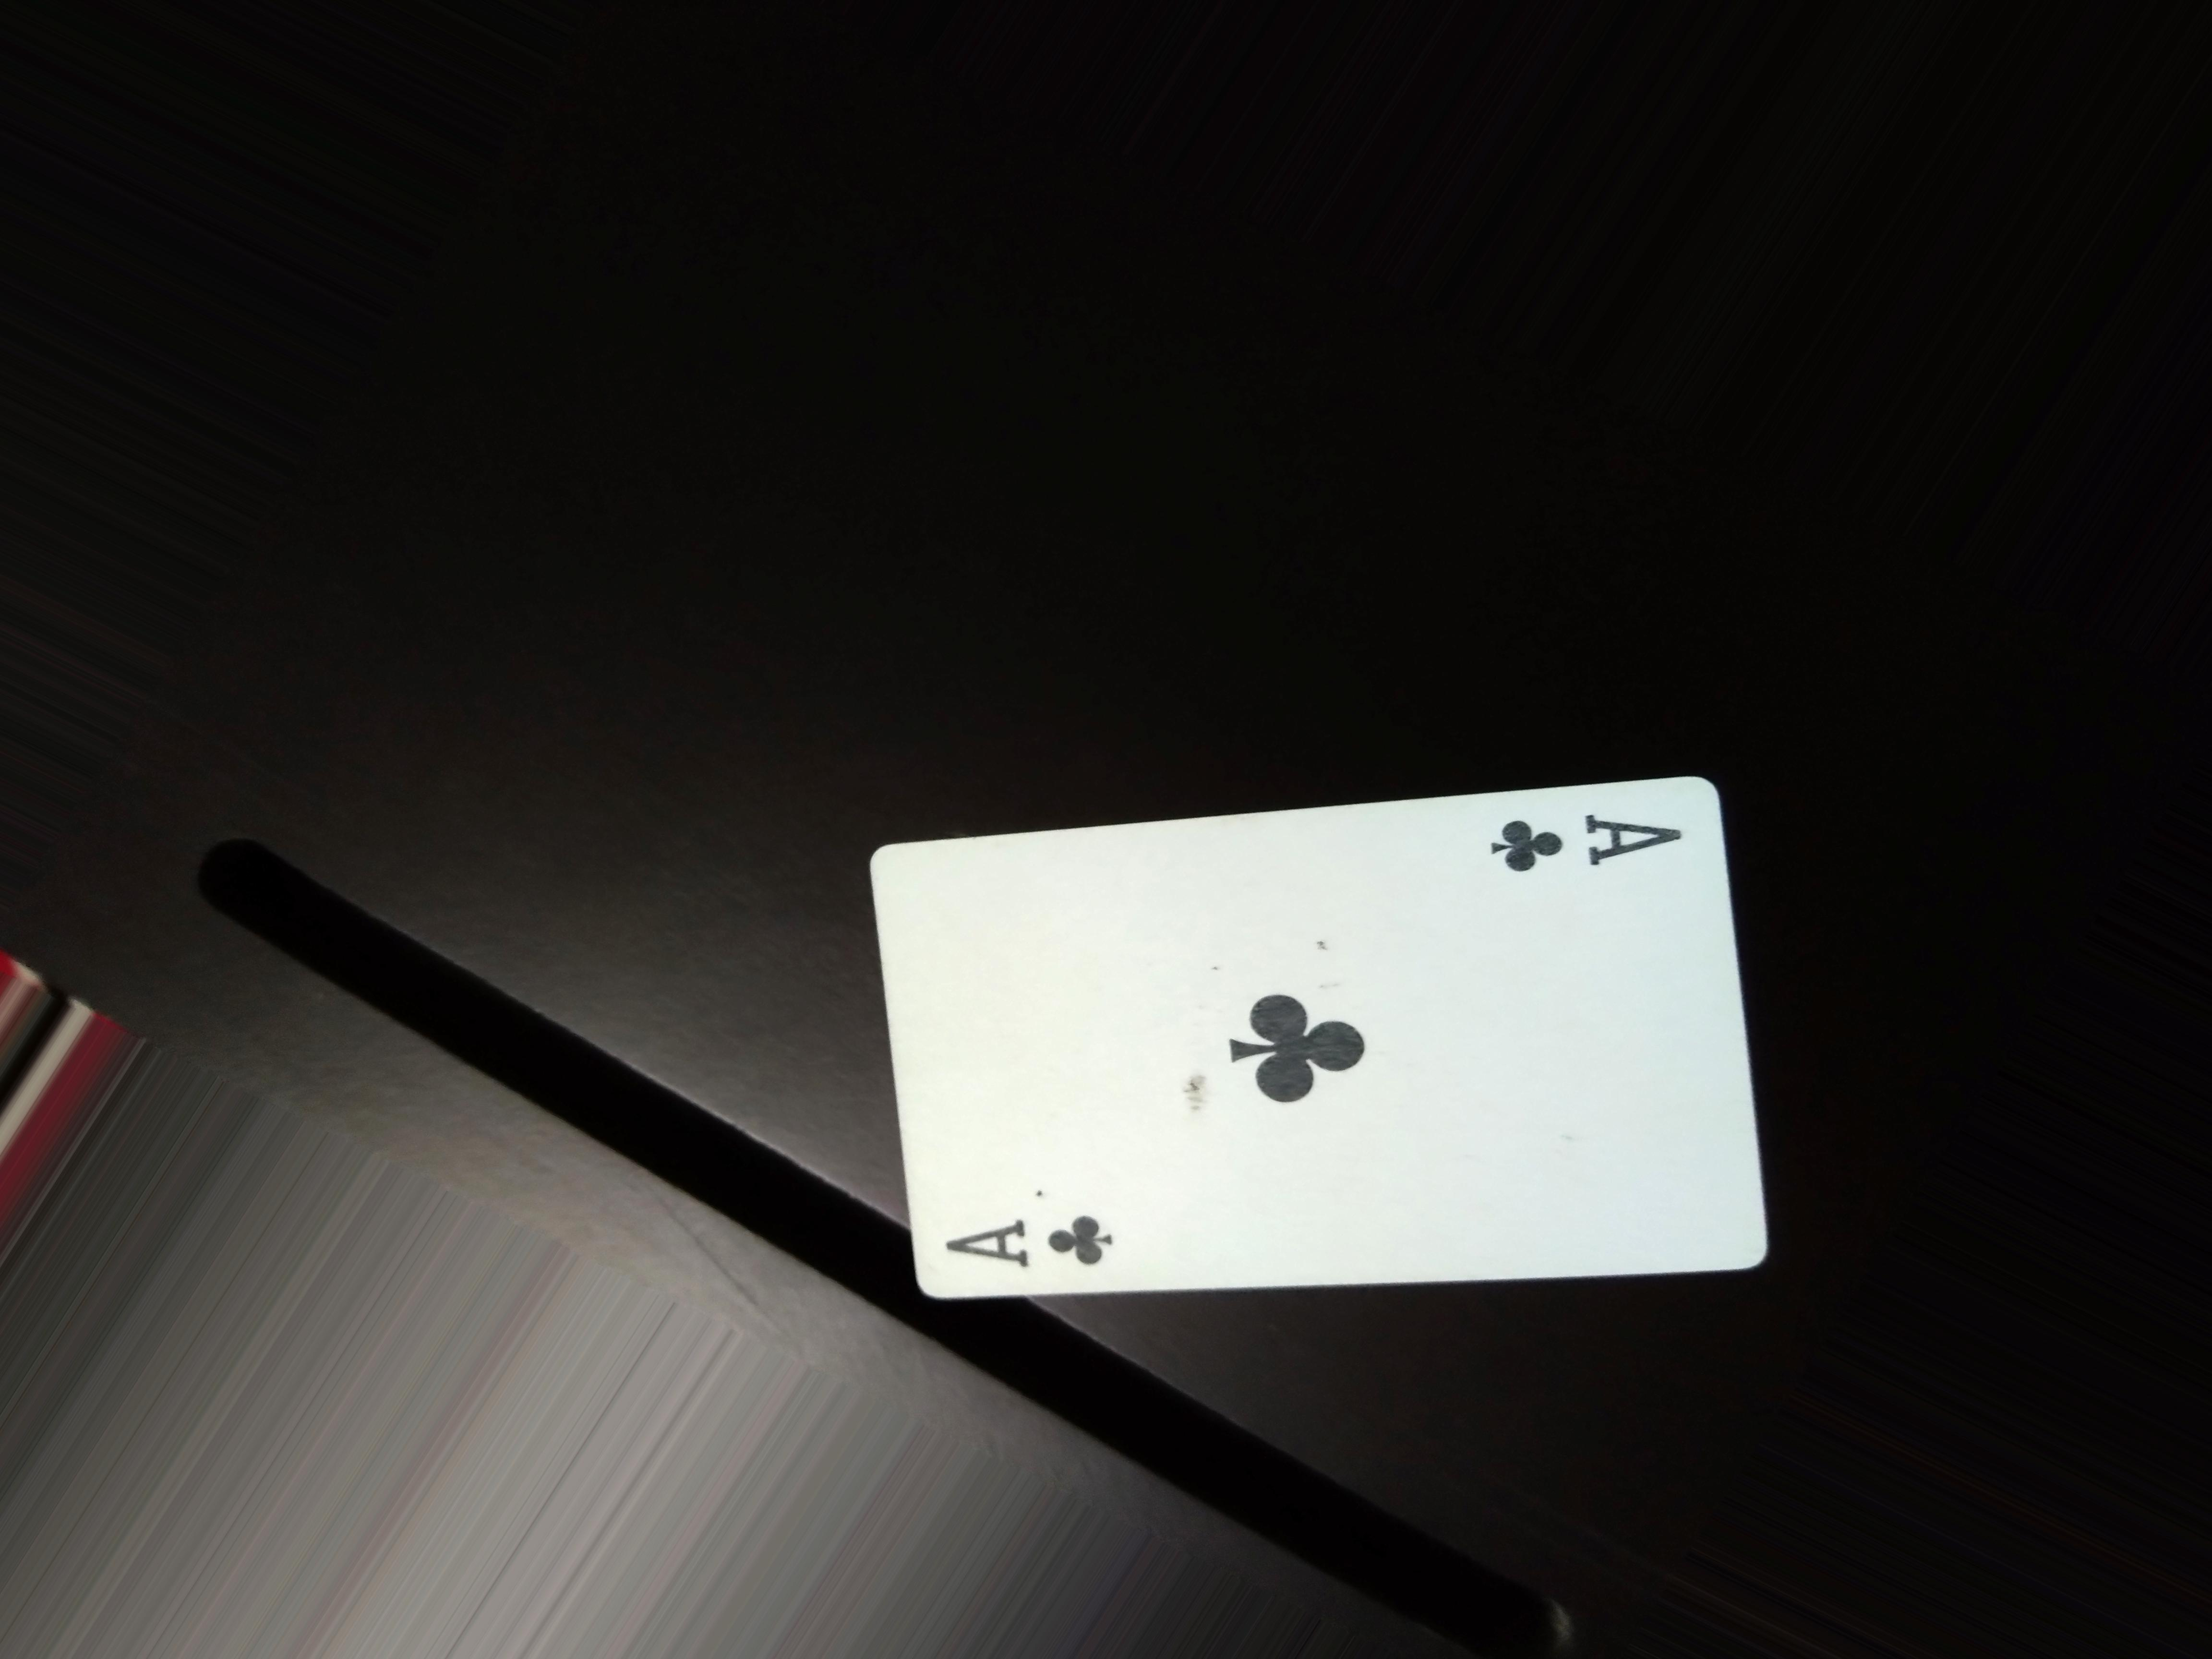AC: (1482, 803, 1700, 901)
